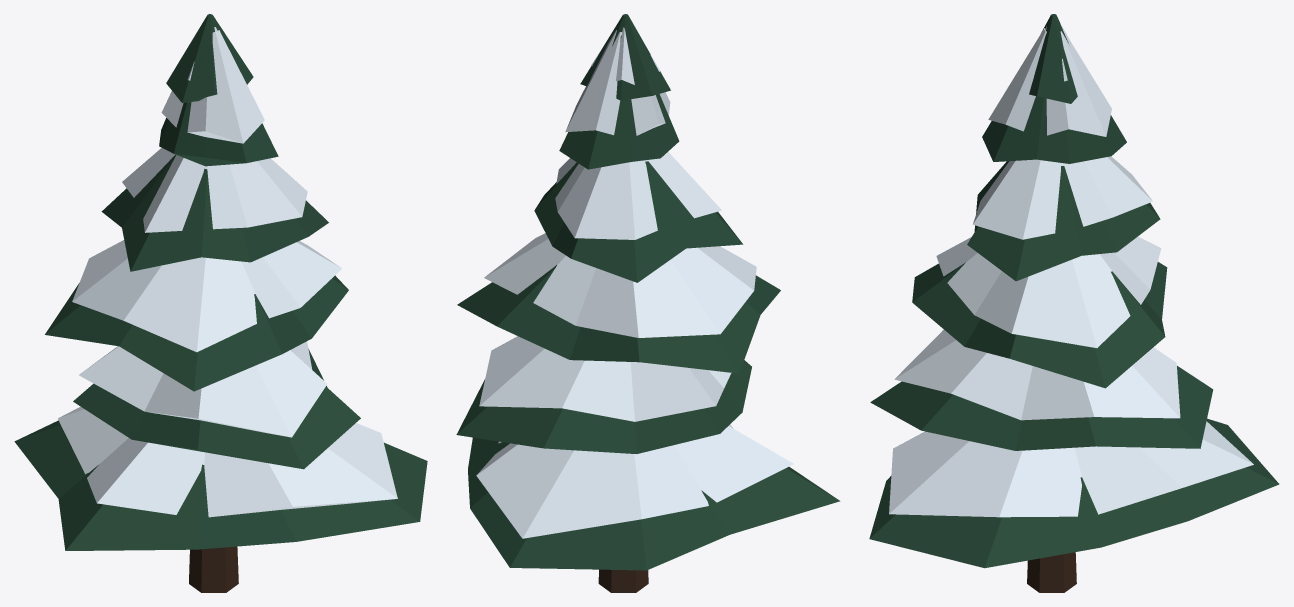
File: Station_Pine_9_0_0.fbx
3 renders of one model, left to right at view 1: azimuth 30°, elevation 25°; view 2: azimuth 150°, elevation 25°; view 3: azimuth 270°, elevation 25°, orthographic.
Visible parts, largest first — view 1: Station_Pine_9_0_0; view 2: Station_Pine_9_0_0; view 3: Station_Pine_9_0_0.
Boxes of the visible parts, bbox=[...] form: Station_Pine_9_0_0: bbox=[14, 14, 427, 592]; Station_Pine_9_0_0: bbox=[456, 14, 840, 592]; Station_Pine_9_0_0: bbox=[869, 14, 1279, 592].
Bounding box in the file's own units: 435 × 652 × 427.
